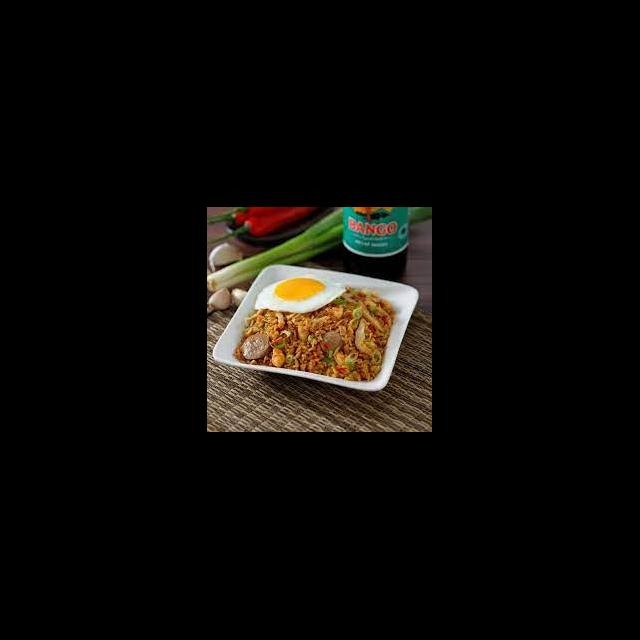food_waste: (261, 286, 367, 364)
